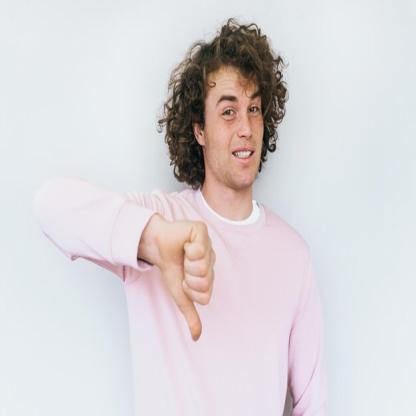thumb_down: (163, 214, 217, 344)
